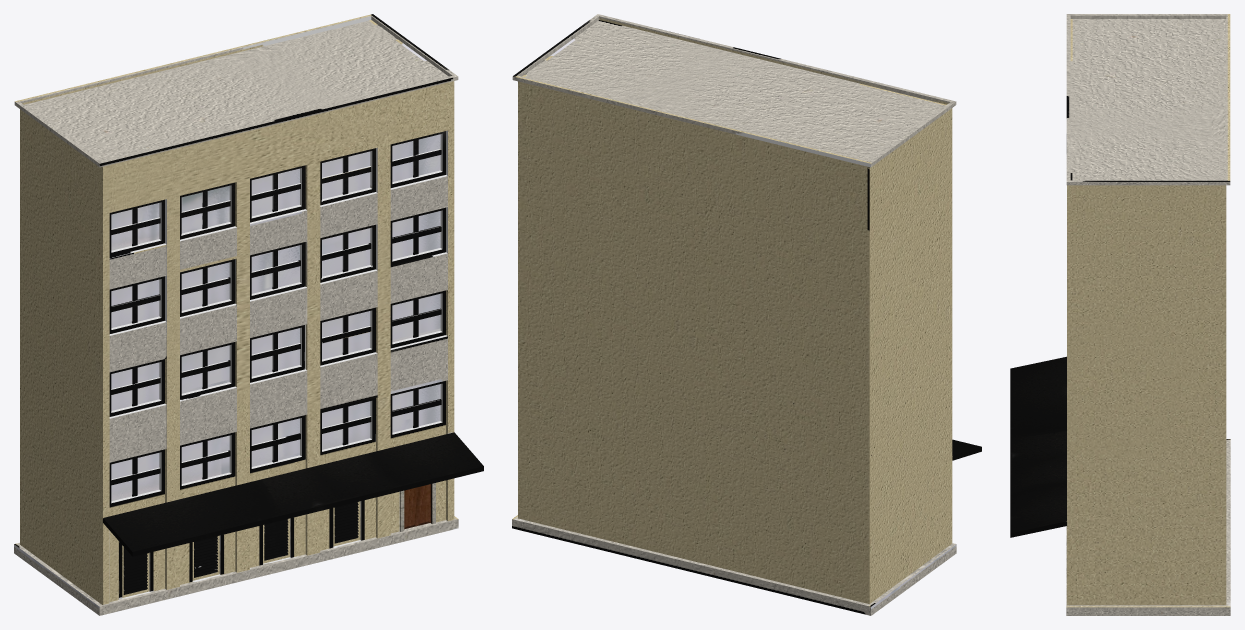
File: EdficioGenerico01.fbx
3 renders of one model, left to right at view 1: azimuth 30°, elevation 25°; view 2: azimuth 150°, elevation 25°; view 3: azimuth 270°, elevation 25°, orthographic. The views are drawn at different scales.
Parts seen in each view (by area): view 1: building_004; view 2: building_004; view 3: building_004.
Part boxes in pixels (x1,y1,x2,y2): building_004: (14, 14, 483, 615); building_004: (512, 14, 981, 615); building_004: (1010, 14, 1230, 615).
Bounding box in the file's own units: 1022 × 1229 × 565.
